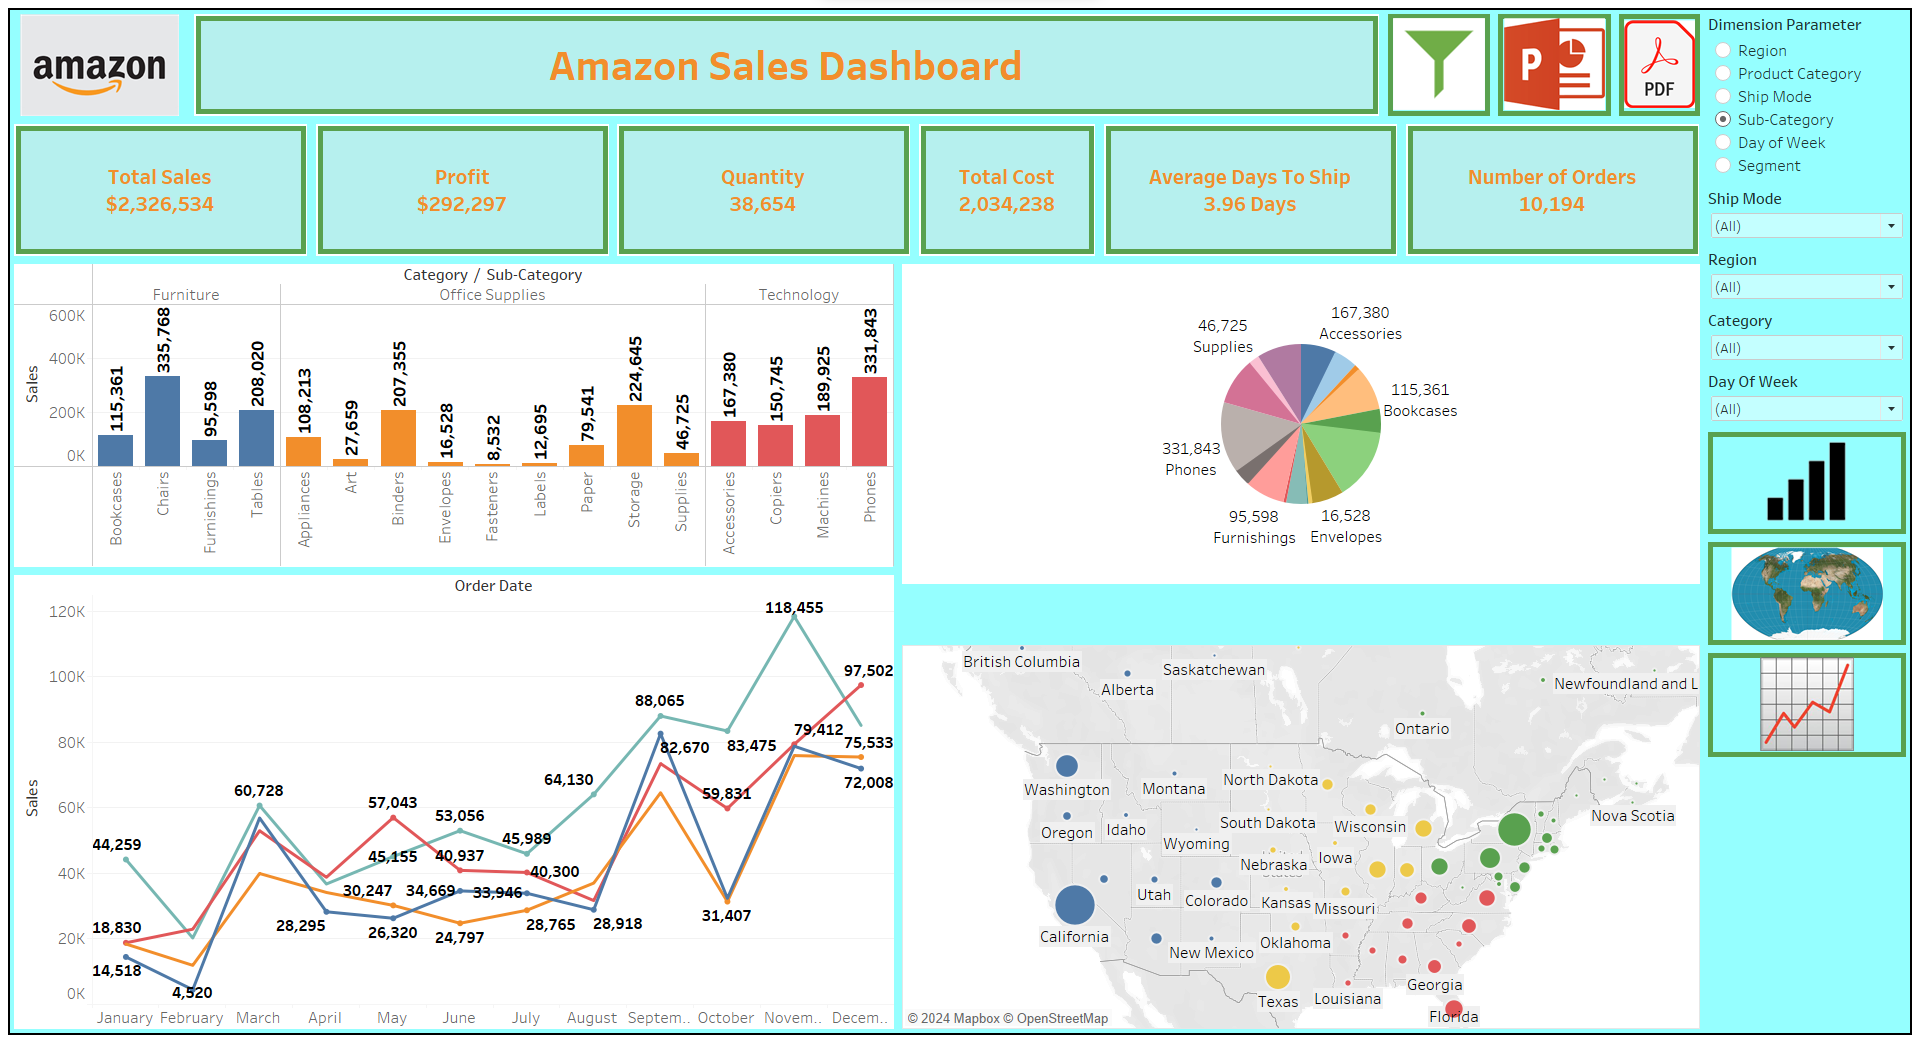

The page's visual inventory and layout, read from the dashboard file:
{"tool":"tableau","page":{"name":"Sales Dashboard","canvas":[1000,1000],"units":"permille","ordinal":0},"visuals":[{"type":"image","param":"Image/Amazon Logo.png","box":[6,11.8,100.2,105.1]},{"type":"worksheet","title":"Title Name","mark":"Automatic","box":[106.2,11.8,624.2,105.1]},{"type":"dashboard-object","box":[730.5,11.8,53.7,105.1]},{"type":"dashboard-object","box":[784.2,11.8,59.1,105.1]},{"type":"dashboard-object","box":[843.3,11.8,43.5,105.1]},{"type":"parameter","param":"[Parameters].[Parameter 2]","box":[886.8,11.8,107.2,204.5]},{"type":"worksheet","title":"Sales KPI","mark":"Automatic","box":[6,116.9,153.8,133.3]},{"type":"worksheet","title":"Profit KPI","mark":"Automatic","box":[159.8,116.9,153.8,133.3]},{"type":"worksheet","title":"Quantity KPI","mark":"Automatic","box":[313.7,116.9,153.8,133.3]},{"type":"worksheet","title":"Cost KPI","mark":"Automatic","box":[467.5,116.9,111.7,133.3]},{"type":"worksheet","title":"Days to Ship KPI","mark":"Automatic","box":[579.1,116.9,153.8,133.3]},{"type":"worksheet","title":"Number of orders","mark":"Automatic","box":[732.9,116.9,153.8,133.3]},{"type":"filter","title":"Bar Chart1","param":"[federated.1ujeapy1lq66ob1brtm4c0k7x61z].[none:Ship Mode:nk]","box":[886.8,216.2,107.2,71.7]},{"type":"worksheet","title":"Bar Chart1","mark":"Automatic","rows":["Sales"],"cols":["Category","Sub-Category"],"box":[6,250.2,461.7,365.4]},{"type":"worksheet","title":"Pie Chart1","mark":"Pie","box":[467.7,250.2,419,363.7]},{"type":"filter","title":"Bar Chart1","param":"[federated.1ujeapy1lq66ob1brtm4c0k7x61z].[none:Region:nk]","box":[886.8,287.9,107.2,71.7]},{"type":"filter","title":"Bar Chart1","param":"[federated.1ujeapy1lq66ob1brtm4c0k7x61z].[none:Category:nk]","box":[886.8,359.6,107.2,71.7]},{"type":"filter","title":"Bar Chart1","param":"[federated.1ujeapy1lq66ob1brtm4c0k7x61z].[none:Calculation_109775298327998469:nk","box":[886.8,431.2,107.2,71.7]},{"type":"dashboard-object","box":[886.8,502.9,107.2,129.3]},{"type":"worksheet","title":"Map","mark":"Automatic","box":[467.7,613.8,419,374.4]},{"type":"worksheet","title":"Line Chart","mark":"Automatic","rows":["Sales"],"cols":["Order Date"],"box":[6,615.6,461.7,372.6]},{"type":"dashboard-object","box":[886.8,632.2,107.2,130.4]},{"type":"dashboard-object","box":[886.8,762.6,107.2,131.6]}]}

Visuals, with their boxes on the dashboard's canvas, which has no fixed pixel size, in thousandths of its width and height (x1, y1, x2, y2). These are canvas units, not pixel positions in the 1918x1041 screenshot, which may show the page scaled, cropped or inside an application window:
image: region(6, 12, 106, 117)
"Title Name" worksheet: region(106, 12, 730, 117)
dashboard-object: region(730, 12, 784, 117)
dashboard-object: region(784, 12, 843, 117)
dashboard-object: region(843, 12, 887, 117)
parameter: region(887, 12, 994, 216)
"Sales KPI" worksheet: region(6, 117, 160, 250)
"Profit KPI" worksheet: region(160, 117, 314, 250)
"Quantity KPI" worksheet: region(314, 117, 468, 250)
"Cost KPI" worksheet: region(468, 117, 579, 250)
"Days to Ship KPI" worksheet: region(579, 117, 733, 250)
"Number of orders" worksheet: region(733, 117, 887, 250)
"Bar Chart1" filter: region(887, 216, 994, 288)
"Bar Chart1" worksheet: region(6, 250, 468, 616)
"Pie Chart1" worksheet (Pie marks): region(468, 250, 887, 614)
"Bar Chart1" filter: region(887, 288, 994, 360)
"Bar Chart1" filter: region(887, 360, 994, 431)
"Bar Chart1" filter: region(887, 431, 994, 503)
dashboard-object: region(887, 503, 994, 632)
"Map" worksheet: region(468, 614, 887, 988)
"Line Chart" worksheet: region(6, 616, 468, 988)
dashboard-object: region(887, 632, 994, 763)
dashboard-object: region(887, 763, 994, 894)
